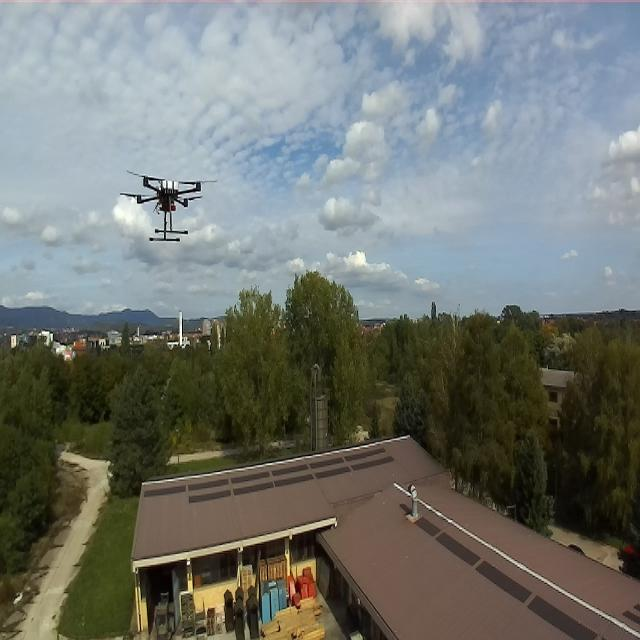UAV: (120, 164, 212, 248)
